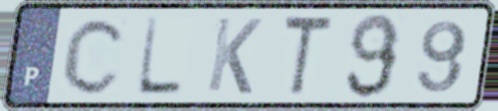9: (343, 11, 402, 101), (414, 17, 470, 95)
C: (59, 14, 131, 98)
K: (203, 15, 265, 98)
L: (132, 14, 187, 99)
T: (278, 12, 336, 101)
